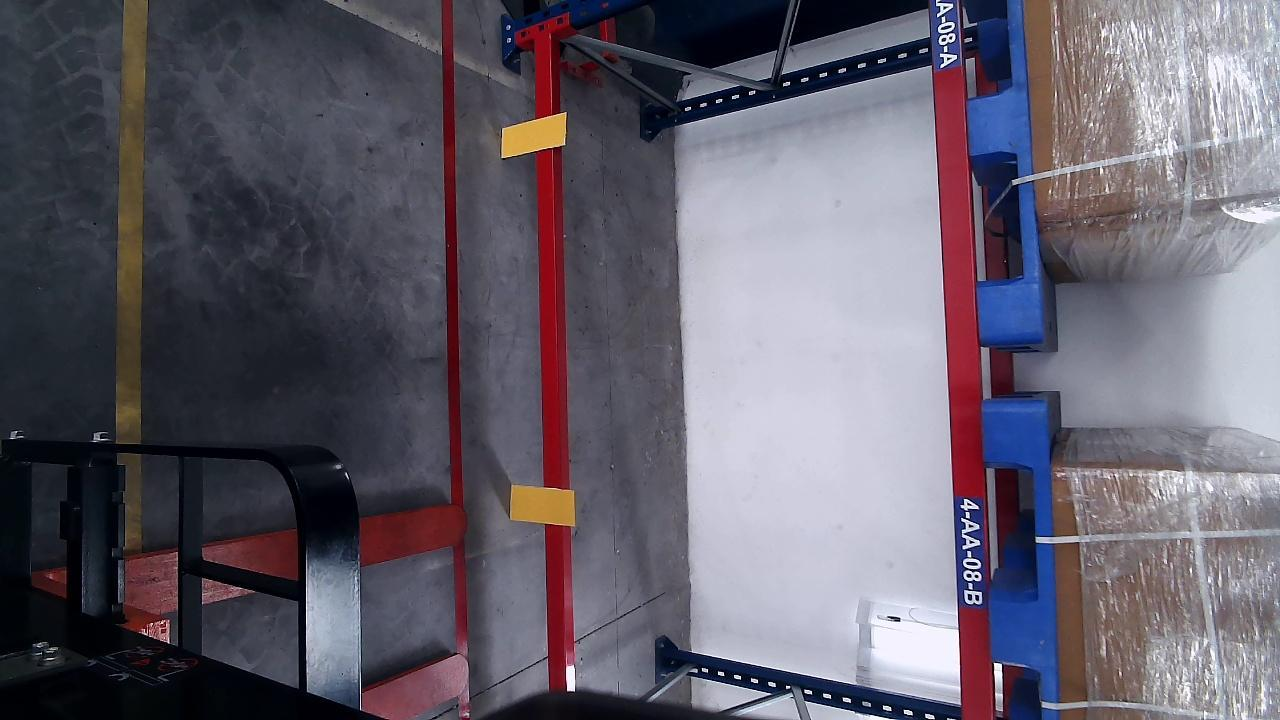h_rack: (930, 2, 994, 720), (532, 32, 569, 690)
orange_strip: (500, 112, 564, 158), (510, 486, 573, 527)
red_line: (439, 2, 471, 718)
small_pallet: (959, 1, 1047, 344), (979, 410, 1066, 720)
yellow_line: (110, 2, 151, 440)
